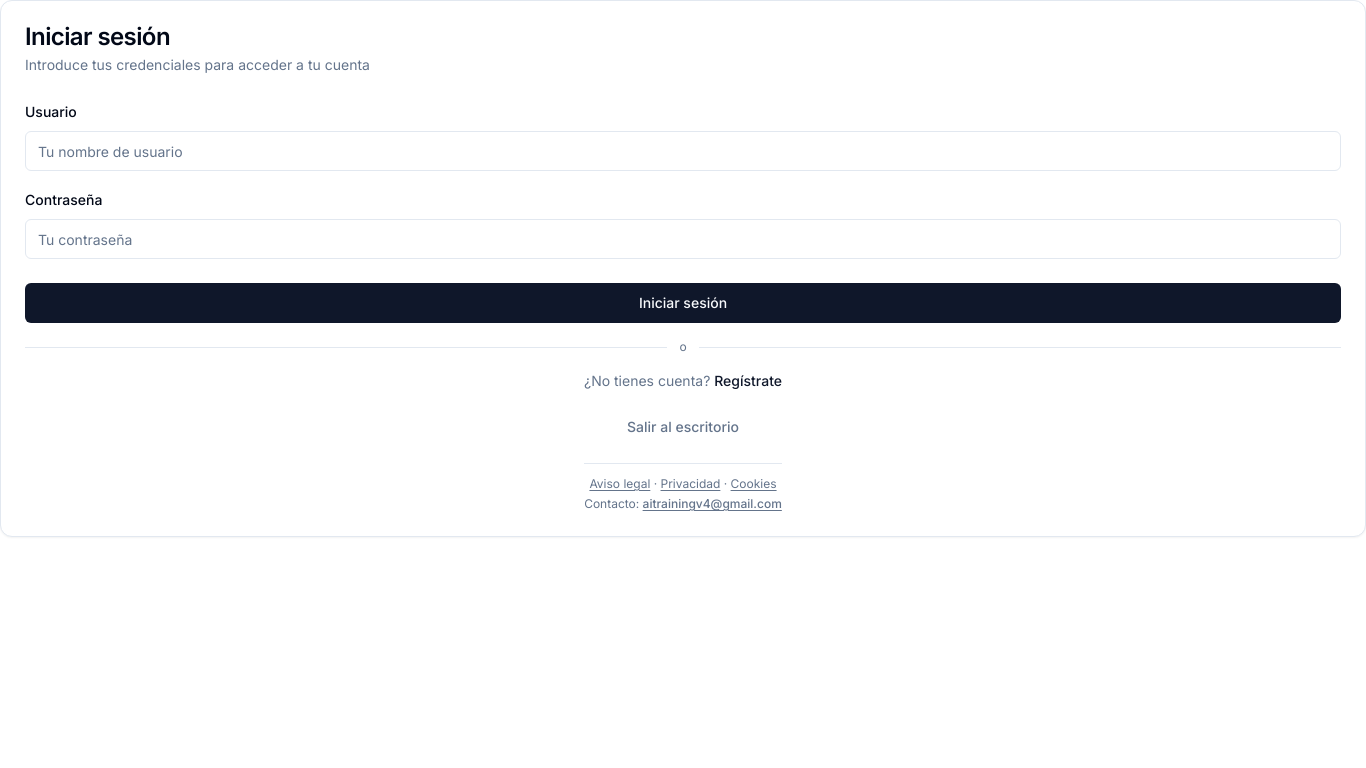
Test: LoginPage › muestra errores de validación al enviar vacío
Click the button "Iniciar sesión": [683, 303] box [25,283,1341,323]
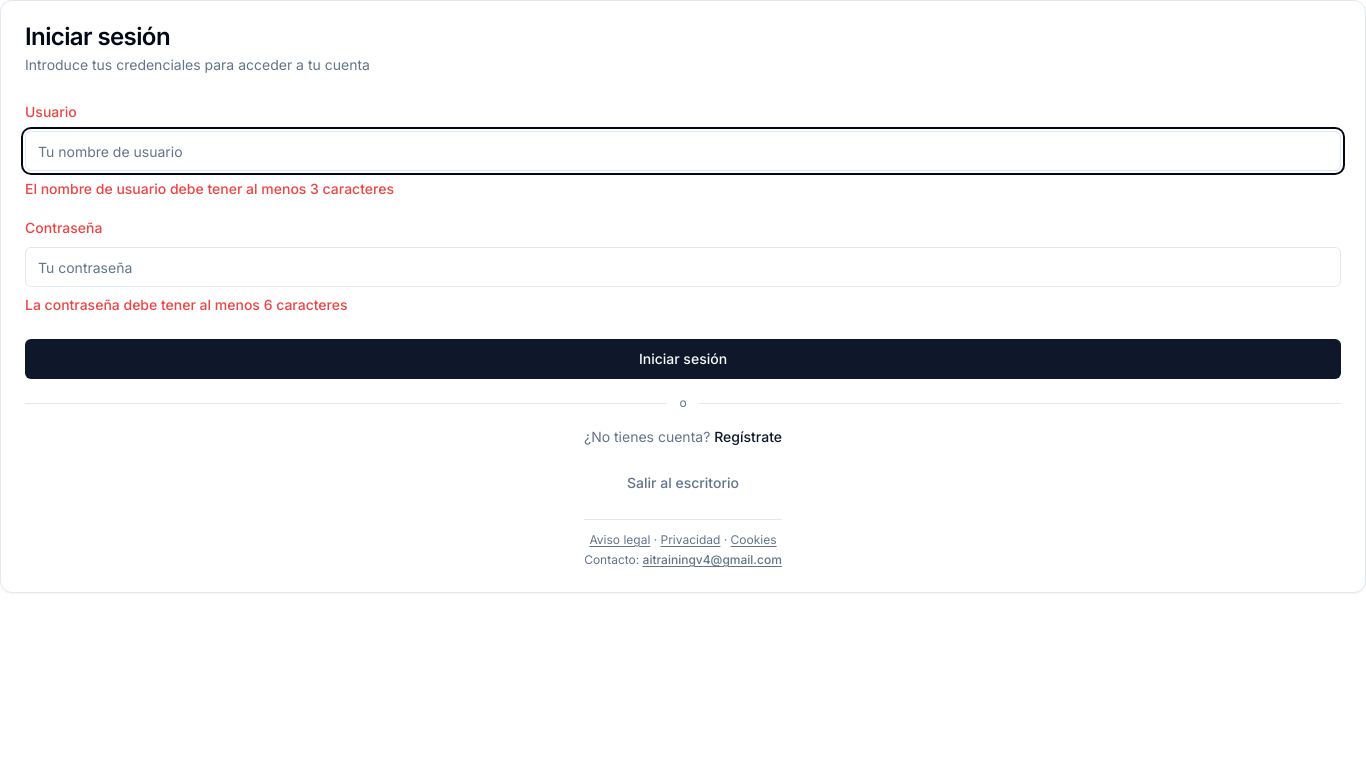
Check: the text "El nombre de usuario debe tener al menos 3 caracteres" is shown, box [25,180,394,197]
Check: the text "La contraseña debe tener al menos 6 caracteres" is shown, box [25,296,348,313]
